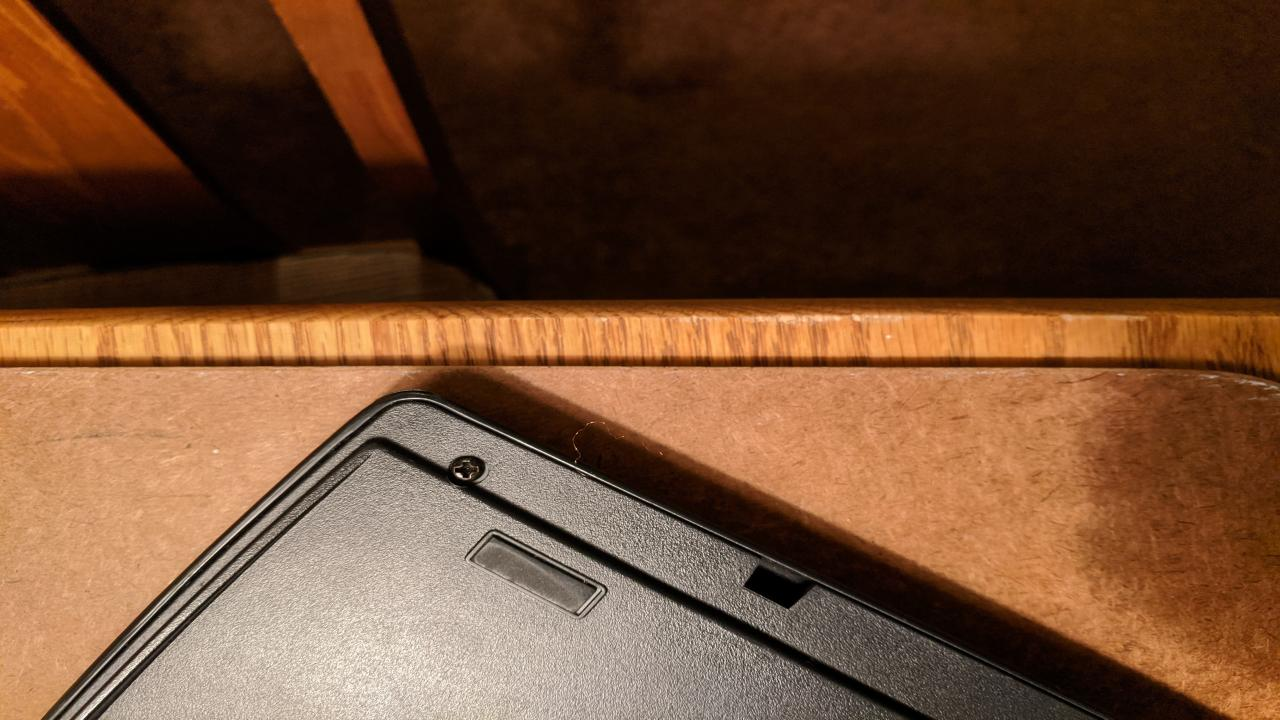CRS: (450, 456, 486, 484)
